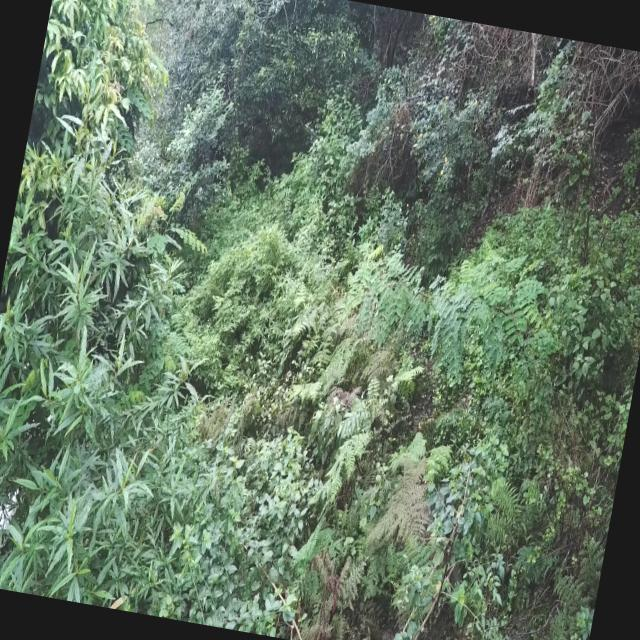Mysore-Thorn-Weed: (349, 230, 553, 385)
